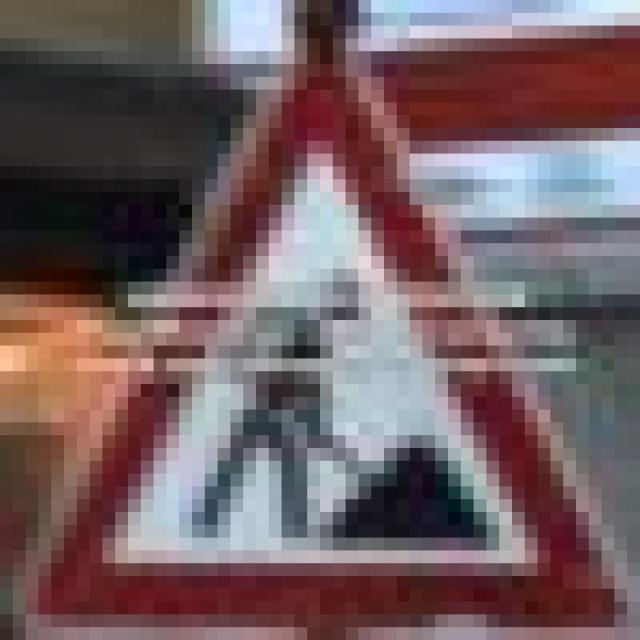road_work: (0, 26, 627, 627)
